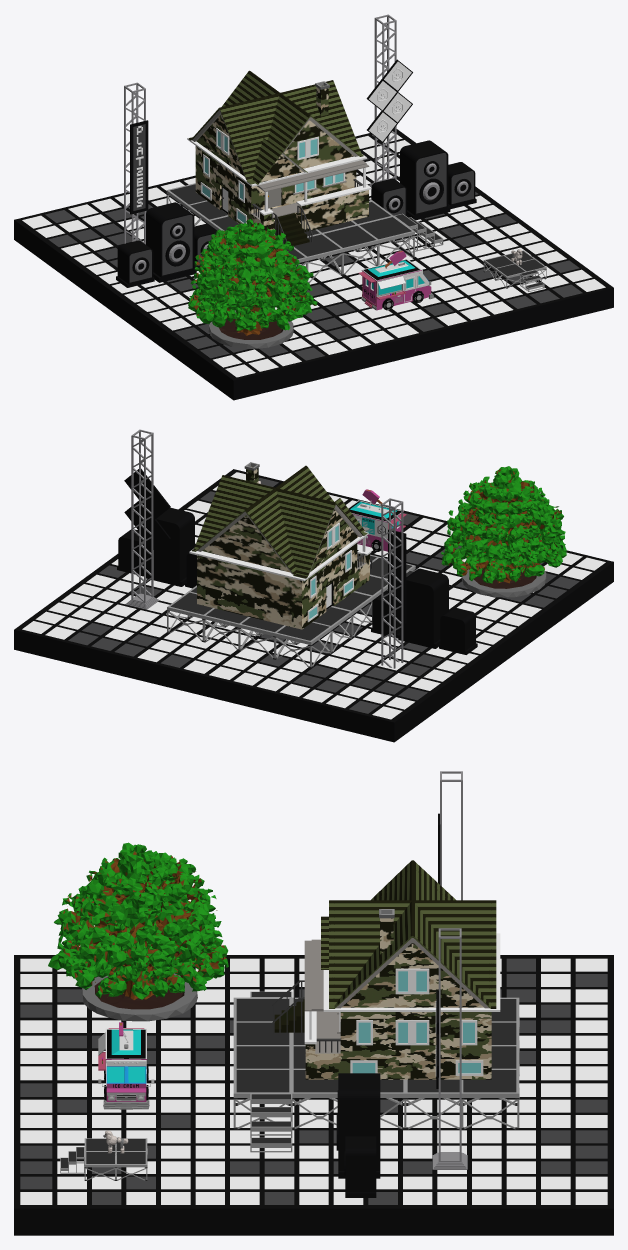
The picture shows the model from 3 angles, top to bottom: view 1: azimuth 30°, elevation 25°; view 2: azimuth 150°, elevation 25°; view 3: azimuth 270°, elevation 25°; orthographic projection. The views are drawn at different scales.
Visible parts, largest first — view 1: Cube.008, Cube.002, OBJRANDOM_CEIBA, VEHICLES_ICE_CREAM_TRUCK; view 2: Cube.008, Cube.002, OBJRANDOM_CEIBA, VEHICLES_ICE_CREAM_TRUCK; view 3: Cube.008, Cube.002, OBJRANDOM_CEIBA, VEHICLES_ICE_CREAM_TRUCK.
Part boxes in pixels (<box>): Cube.008: <box>14,14,613,400</box>; Cube.002: <box>187,70,371,245</box>; OBJRANDOM_CEIBA: <box>188,219,317,348</box>; VEHICLES_ICE_CREAM_TRUCK: <box>358,250,434,310</box>; Cube.008: <box>14,429,613,742</box>; Cube.002: <box>189,462,372,629</box>; OBJRANDOM_CEIBA: <box>441,466,566,597</box>; VEHICLES_ICE_CREAM_TRUCK: <box>348,489,406,551</box>; Cube.008: <box>14,771,613,1235</box>; Cube.002: <box>272,860,500,1079</box>; OBJRANDOM_CEIBA: <box>48,842,228,1021</box>; VEHICLES_ICE_CREAM_TRUCK: <box>98,1022,154,1109</box>.
Size of the model in its own units: 4000 by 1972 by 4000.
49 materials, 3 textured.
